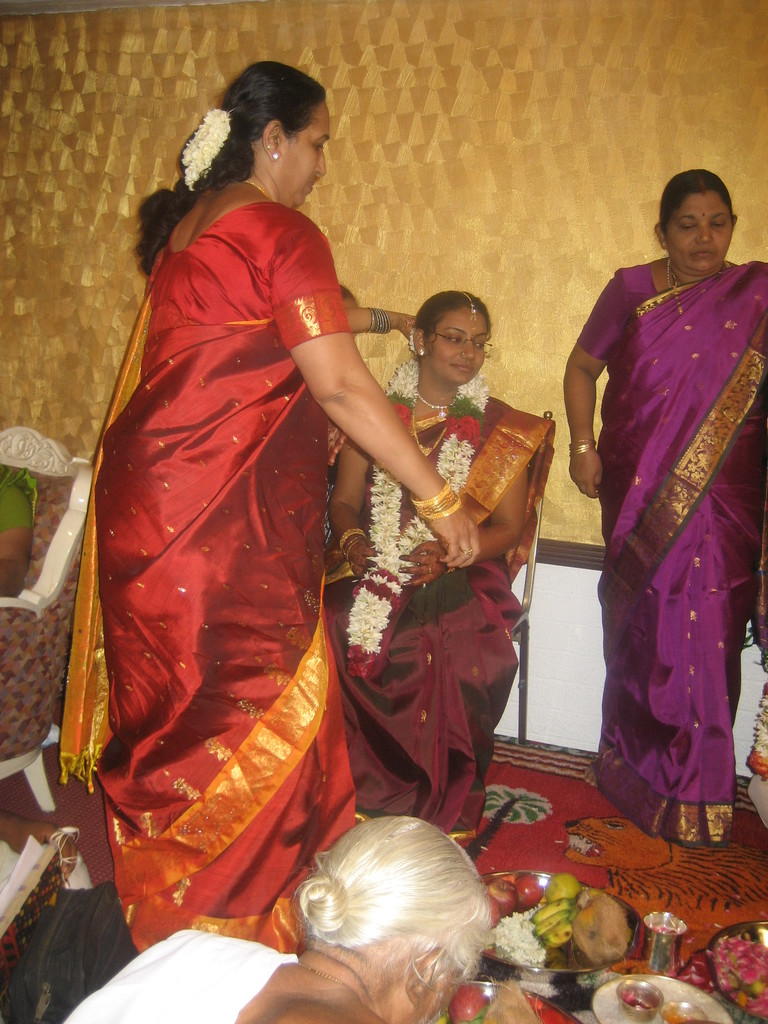Person: (60, 816, 491, 1024), (321, 283, 358, 555), (0, 458, 43, 598)
